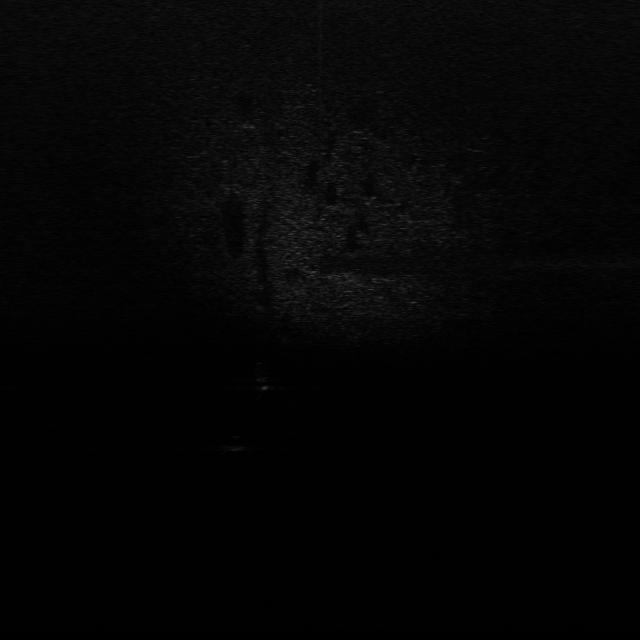ball: (223, 433, 249, 454)
human body: (250, 358, 280, 394)
